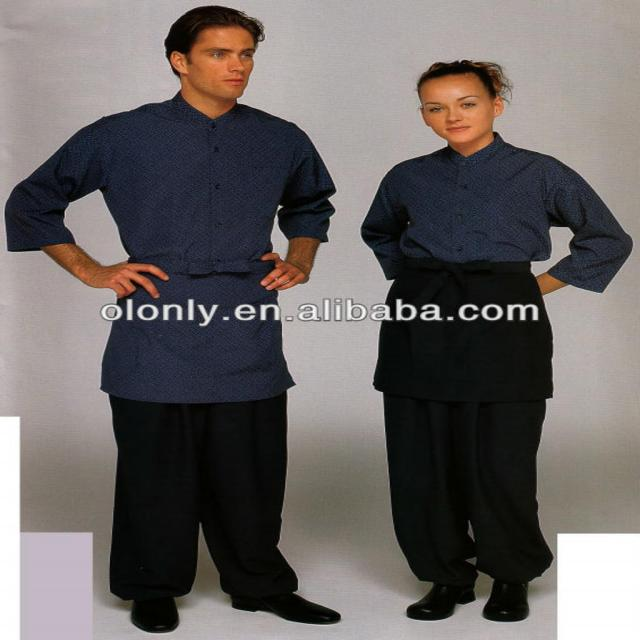nomask: (418, 72, 493, 145), (189, 25, 256, 99)
